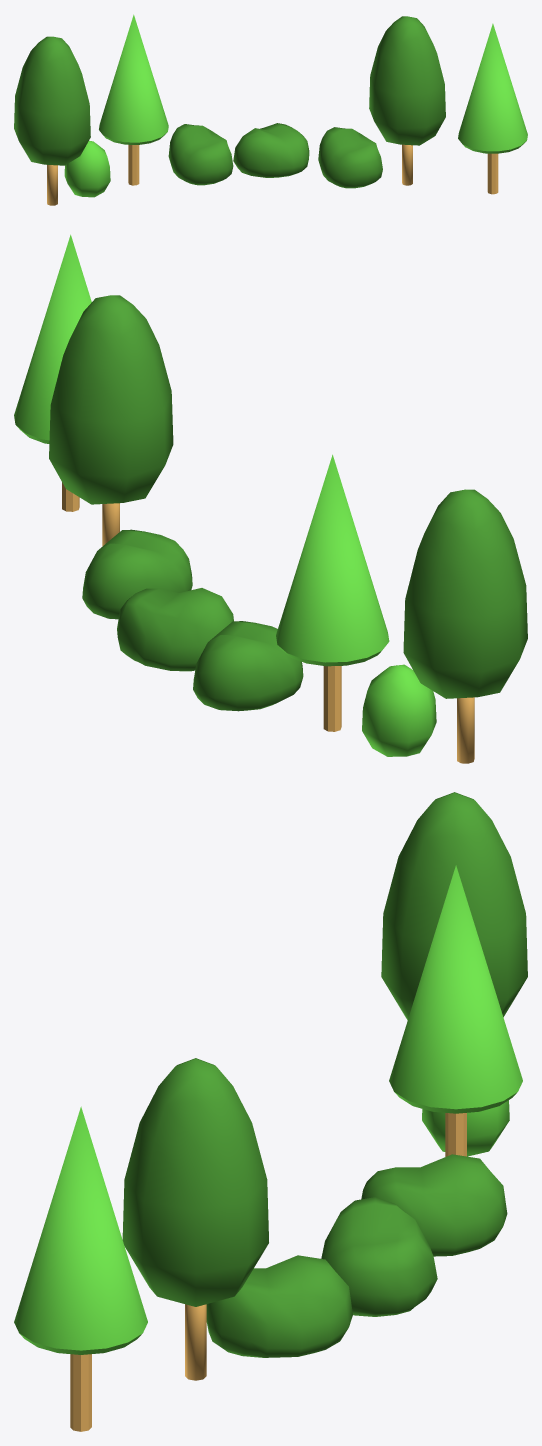
Rendered from tree_curve.glb.
The picture shows the model from 3 angles, top to bottom: view 1: azimuth 30°, elevation 25°; view 2: azimuth 150°, elevation 25°; view 3: azimuth 270°, elevation 25°; orthographic projection. The views are drawn at different scales.
Visible parts, largest first — view 1: Prop_Tree_04.001, Prop_Tree_04, Prop_Tree_05.001, Prop_Tree_05, Prop_Bush_02.001, Prop_Bush_02.002, Prop_Bush_02, Prop_Bush_01; view 2: Prop_Tree_04, Prop_Tree_04.001, Prop_Tree_05, Prop_Bush_02, Prop_Bush_02.001, Prop_Tree_05.001, Prop_Bush_02.002, Prop_Bush_01; view 3: Prop_Tree_04.001, Prop_Tree_05.001, Prop_Tree_04, Prop_Tree_05, Prop_Bush_02.002, Prop_Bush_02.001, Prop_Bush_02, Prop_Bush_01.
Part boxes in pixels (x1=…): Prop_Tree_04.001: x1=369, y1=16, x2=445, y2=185; Prop_Tree_04: x1=14, y1=36, x2=90, y2=205; Prop_Tree_05.001: x1=458, y1=23, x2=527, y2=194; Prop_Tree_05: x1=99, y1=14, x2=168, y2=185; Prop_Bush_02.001: x1=233, y1=123, x2=309, y2=177; Prop_Bush_02.002: x1=318, y1=127, x2=382, y2=188; Prop_Bush_02: x1=168, y1=124, x2=233, y2=185; Prop_Bush_01: x1=64, y1=140, x2=110, y2=197; Prop_Tree_04: x1=403, y1=489, x2=527, y2=763; Prop_Tree_04.001: x1=49, y1=295, x2=173, y2=546; Prop_Tree_05: x1=276, y1=454, x2=389, y2=731; Prop_Bush_02: x1=193, y1=621, x2=303, y2=711; Prop_Bush_02.001: x1=117, y1=588, x2=233, y2=671; Prop_Tree_05.001: x1=14, y1=234, x2=91, y2=511; Prop_Bush_02.002: x1=82, y1=529, x2=192, y2=619; Prop_Bush_01: x1=362, y1=664, x2=436, y2=756; Prop_Tree_04.001: x1=122, y1=1058, x2=268, y2=1380; Prop_Tree_05.001: x1=14, y1=1106, x2=147, y2=1431; Prop_Tree_04: x1=381, y1=792, x2=527, y2=1020; Prop_Tree_05: x1=389, y1=865, x2=522, y2=1156; Prop_Bush_02.002: x1=206, y1=1255, x2=352, y2=1357; Prop_Bush_02.001: x1=321, y1=1197, x2=437, y2=1316; Prop_Bush_02: x1=361, y1=1154, x2=507, y2=1256; Prop_Bush_01: x1=422, y1=1100, x2=509, y2=1156.
Size of the model in its own units: 12.86 by 5.12 by 7.42.
Materials: 1 (1 with a texture image).
